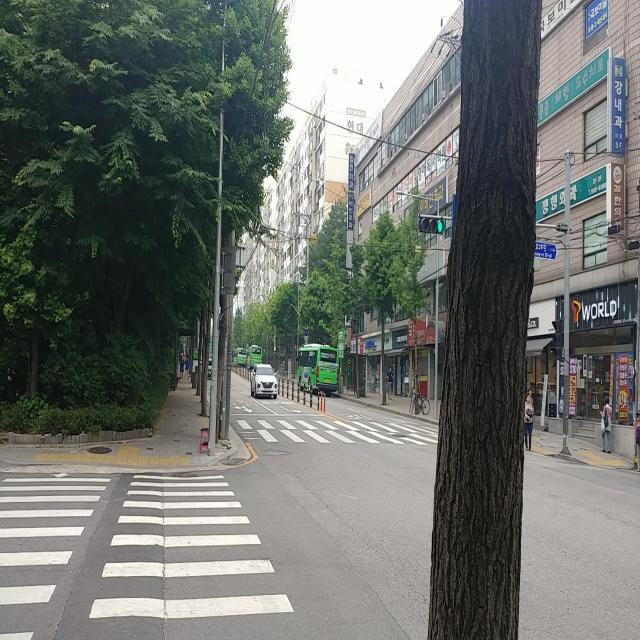횡단보도: (0, 473, 295, 640), (233, 413, 440, 448)
